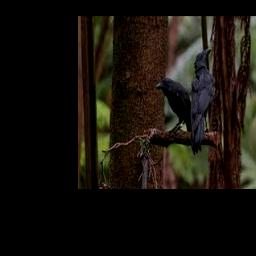Crow: (156, 78, 202, 155), (191, 48, 213, 153)
